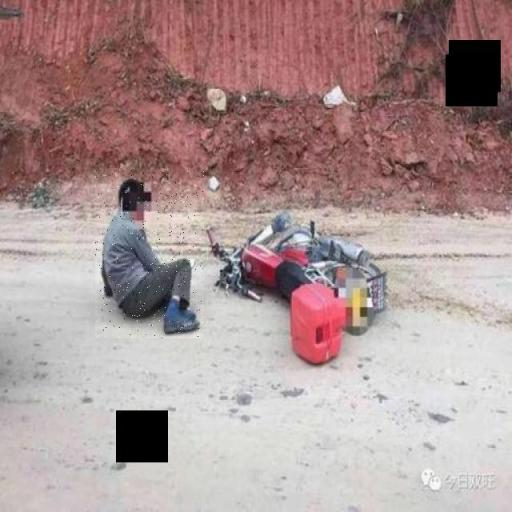Fall: (95, 168, 204, 338)
